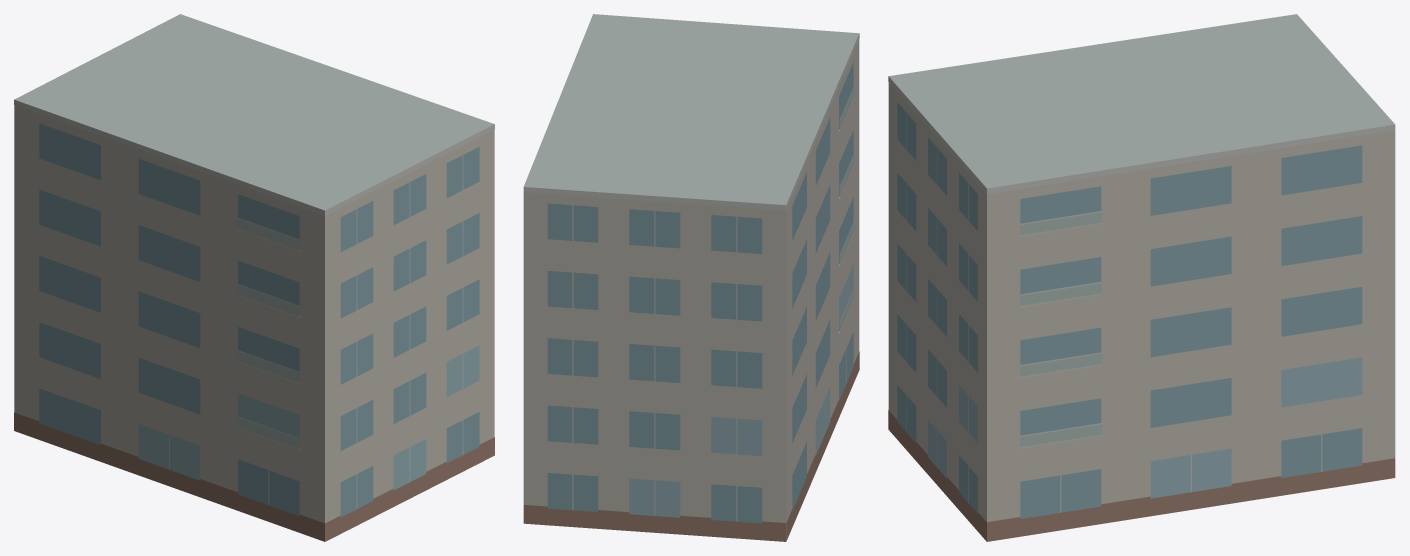
The model's file is survey-upis-32983155.glb.
3 renders of one model, left to right at view 1: azimuth 30°, elevation 25°; view 2: azimuth 150°, elevation 25°; view 3: azimuth 270°, elevation 25°, orthographic. The views are drawn at different scales.
Visible parts, largest first — view 1: survey-upis-32983155.tmp; view 2: survey-upis-32983155.tmp; view 3: survey-upis-32983155.tmp.
Boxes of the visible parts, <box> form: survey-upis-32983155.tmp: <box>14,14,494,541</box>; survey-upis-32983155.tmp: <box>523,14,859,541</box>; survey-upis-32983155.tmp: <box>888,14,1395,541</box>.
Bounding box in the file's own units: 16.16 × 15.25 × 19.83.
